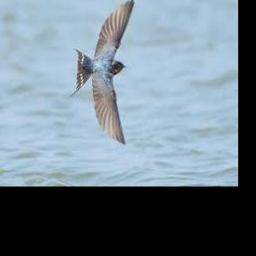Swallow: (67, 0, 133, 145)
